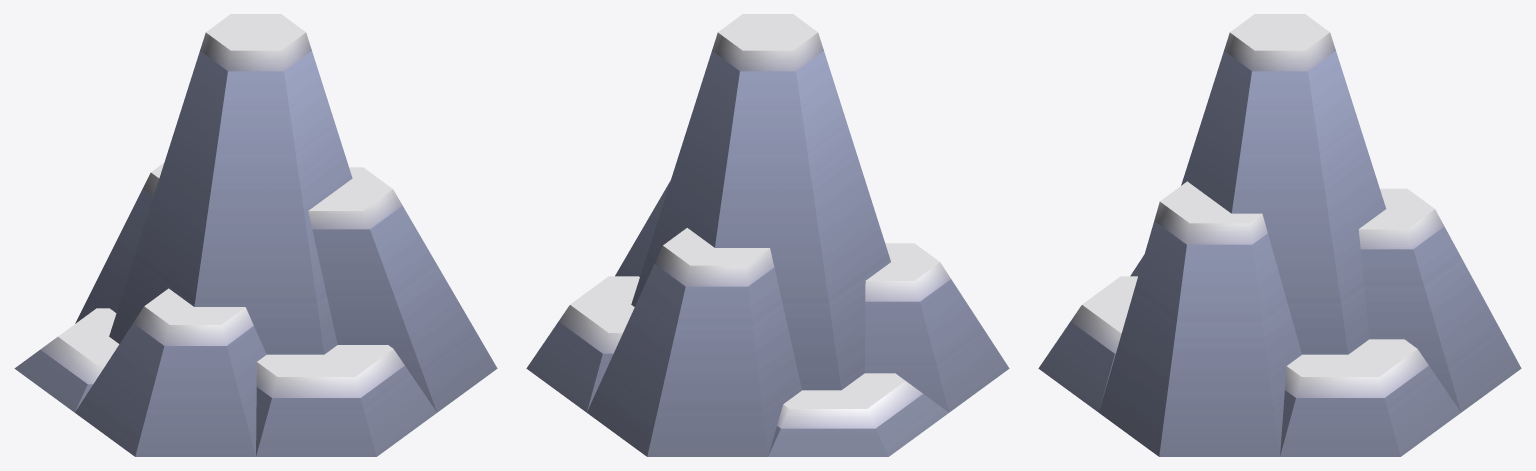
Rendered from mountain_big.fbx.
3 renders of one model, left to right at view 1: azimuth 30°, elevation 25°; view 2: azimuth 150°, elevation 25°; view 3: azimuth 270°, elevation 25°, orthographic.
Parts seen in each view (by area): view 1: stone_mountain; view 2: stone_mountain; view 3: stone_mountain.
Boxes of the visible parts, x1,y1,x2,y2 form: stone_mountain: (14, 14, 497, 456); stone_mountain: (526, 14, 1009, 456); stone_mountain: (1038, 14, 1521, 456).
Size of the model in its own units: 100 by 88.64 by 115.
